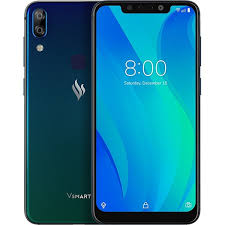vsmart: (19, 1, 201, 224)
